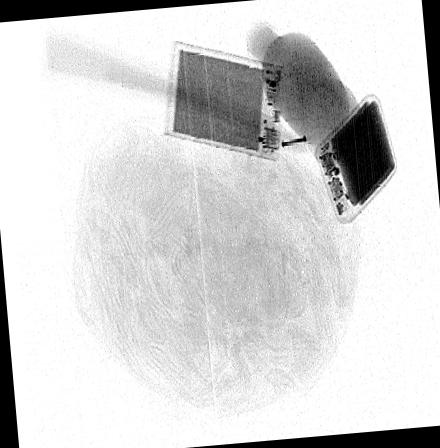Powerbank: (162, 41, 284, 162), (313, 91, 399, 224)
